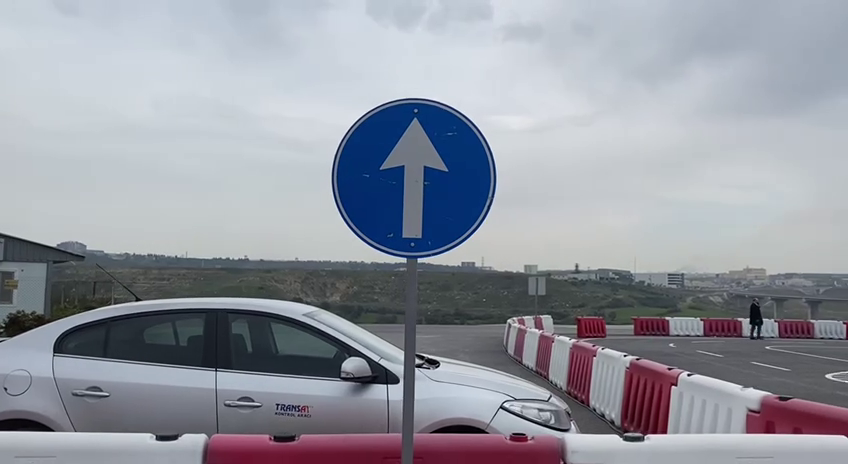forward: (326, 92, 500, 262)
